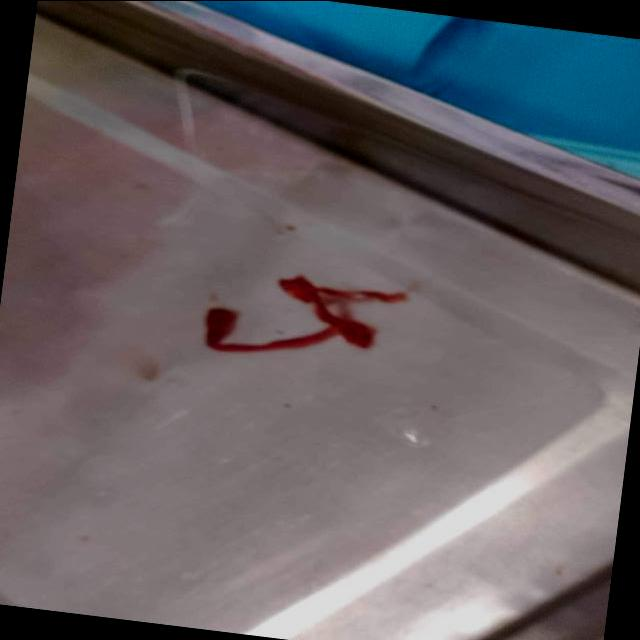General: (0, 0, 639, 639)
Sharps: (202, 272, 408, 353)
